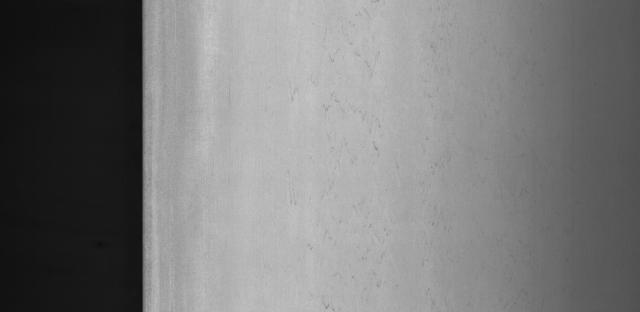silk_spot: (298, 7, 424, 310)
